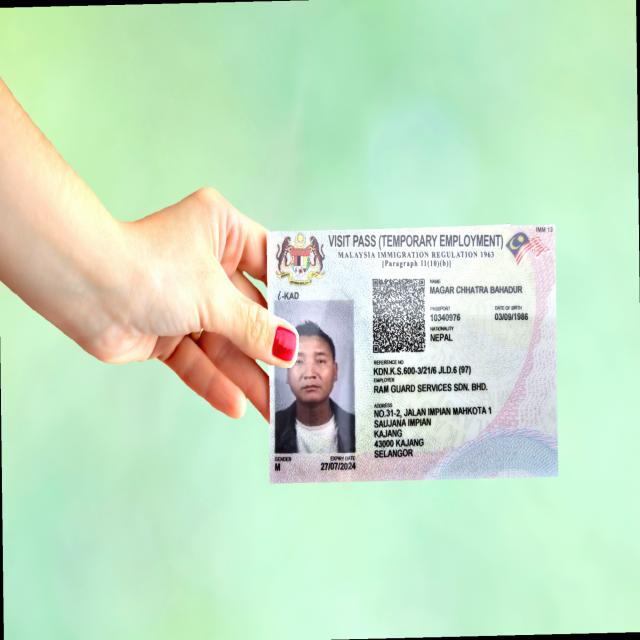ikad-temp: (265, 224, 558, 483)
